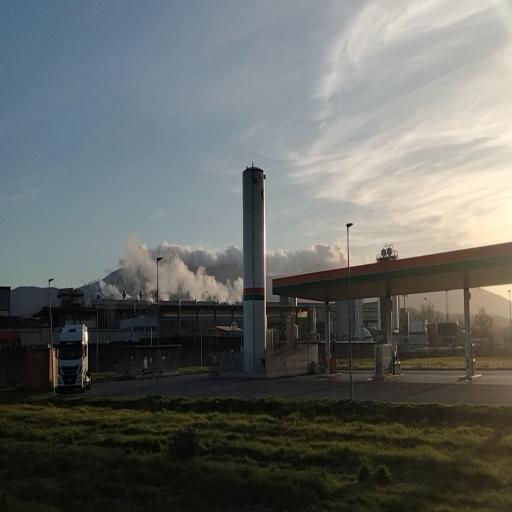leakage: (96, 226, 249, 304)
